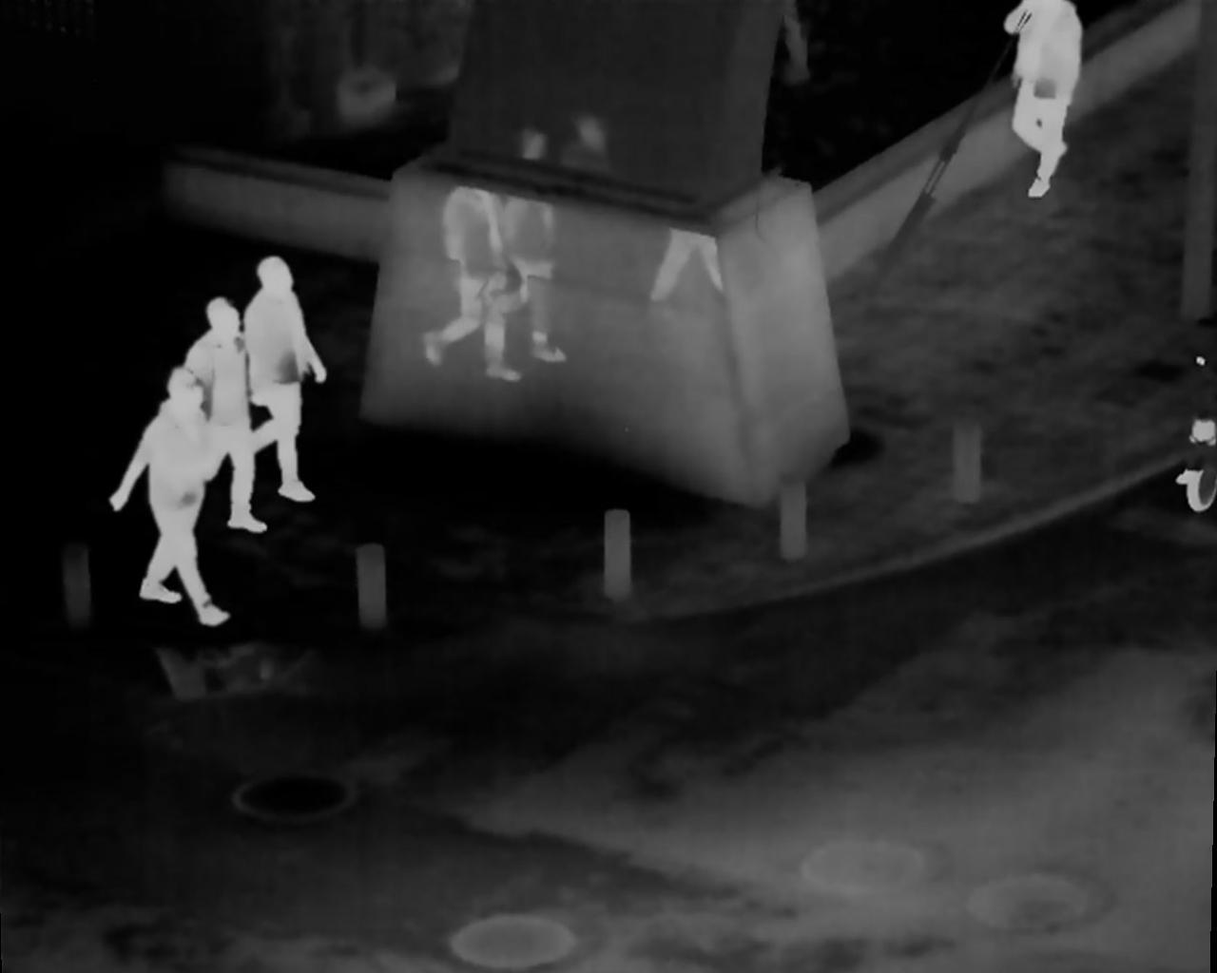person: (122, 367, 234, 625), (241, 262, 325, 495), (190, 297, 274, 524)
